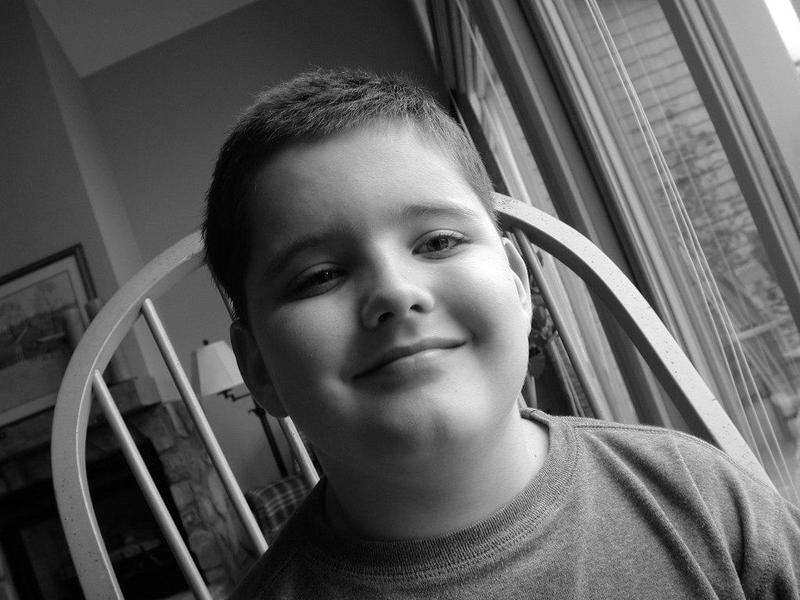person: (207, 69, 798, 600)
